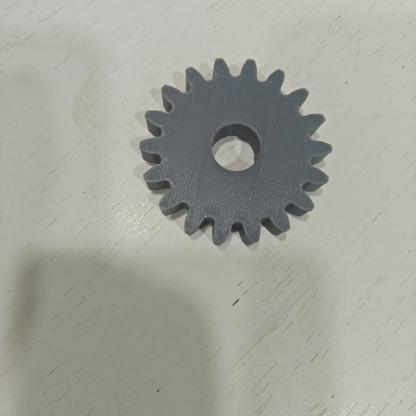gear: (139, 58, 332, 245)
